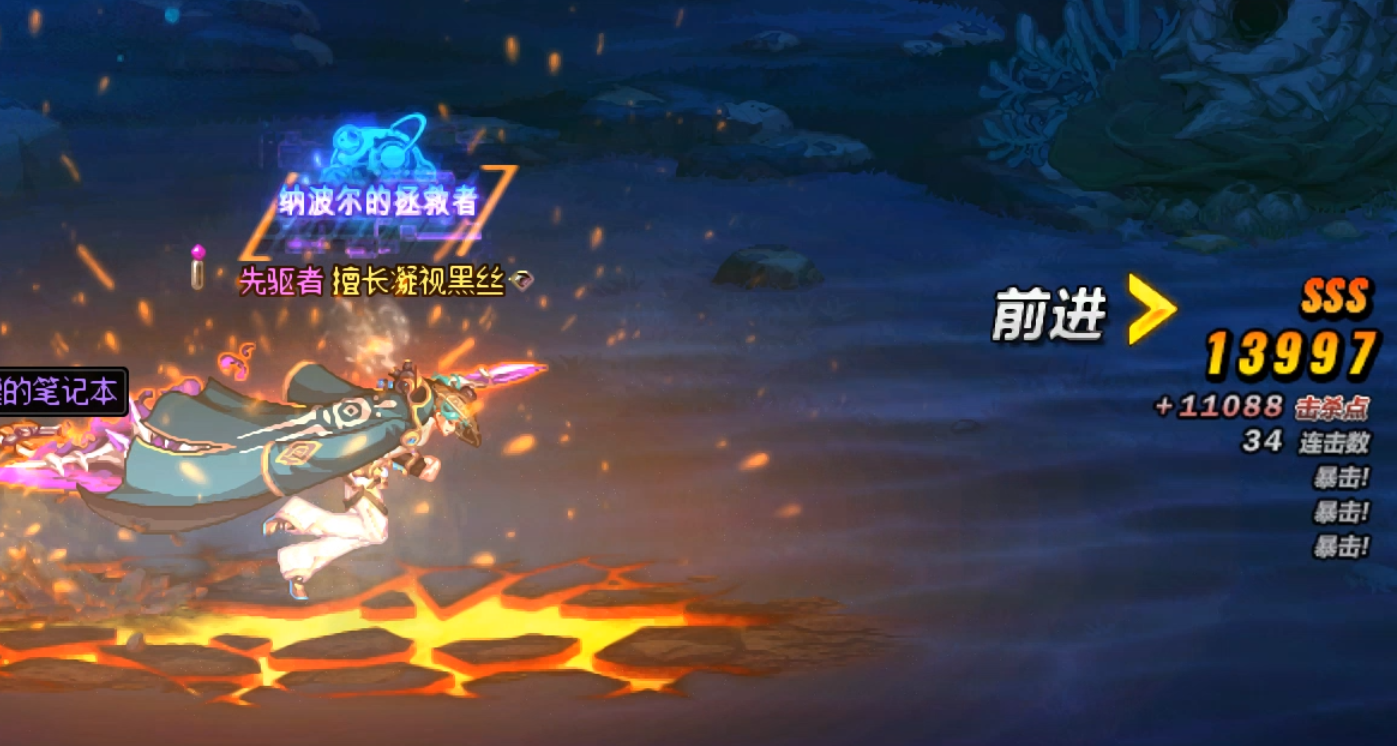forward: (971, 268, 1187, 362)
